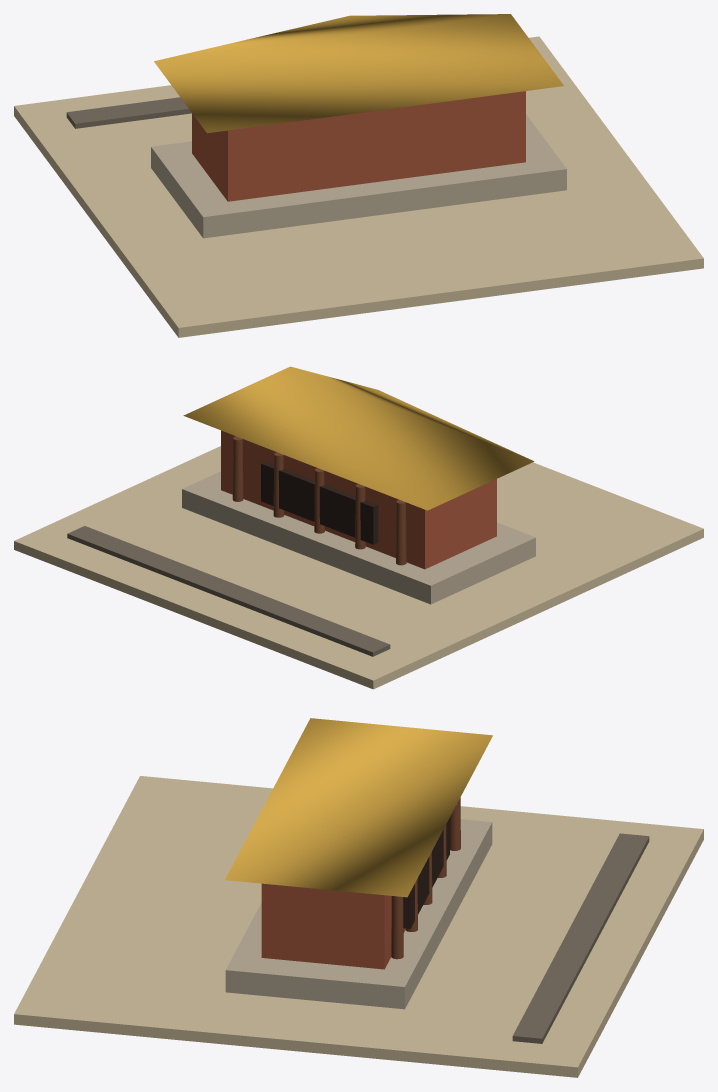
The model's file is model-medium.glb.
3 views of the same model, one above another, from view 1: azimuth 30°, elevation 25°; view 2: azimuth 150°, elevation 25°; view 3: azimuth 270°, elevation 25° (orthographic). The views are drawn at different scales.
Parts seen in each view (by area): view 1: context_site_plinth, sweeping_tiled_roof, main_hall_wall_volume, raised_ceremonial_platform, front_scale_strip; view 2: context_site_plinth, sweeping_tiled_roof, raised_ceremonial_platform, main_hall_wall_volume, front_scale_strip, central_shadow_door, front_column_1, front_column_5, front_column_2, front_column_3; view 3: context_site_plinth, sweeping_tiled_roof, raised_ceremonial_platform, main_hall_wall_volume, front_scale_strip, central_shadow_door, front_column_5.
Boxes of the visible parts, box(x1,y1,x2,y2) form: context_site_plinth: box(14, 36, 703, 337); sweeping_tiled_roof: box(154, 14, 563, 133); main_hall_wall_volume: box(192, 91, 525, 201); raised_ceremonial_platform: box(151, 114, 566, 238); front_scale_strip: box(66, 97, 191, 128); context_site_plinth: box(14, 446, 703, 689); sweeping_tiled_roof: box(183, 366, 534, 510); raised_ceremonial_platform: box(182, 471, 535, 604); main_hall_wall_volume: box(221, 430, 496, 569); front_scale_strip: box(67, 526, 390, 656); central_shadow_door: box(261, 461, 378, 544); front_column_1: box(396, 500, 406, 565); front_column_5: box(232, 436, 243, 501); front_column_2: box(355, 484, 365, 549); front_column_3: box(314, 468, 324, 533); context_site_plinth: box(14, 776, 703, 1077); sweeping_tiled_roof: box(225, 718, 492, 897); raised_ceremonial_platform: box(225, 819, 492, 1009); main_hall_wall_volume: box(261, 883, 405, 969); front_scale_strip: box(512, 833, 649, 1043); central_shadow_door: box(403, 817, 449, 928); front_column_5: box(391, 896, 403, 959).
Bounding box in the file's own units: 9.55 × 2.62 × 9.55.
